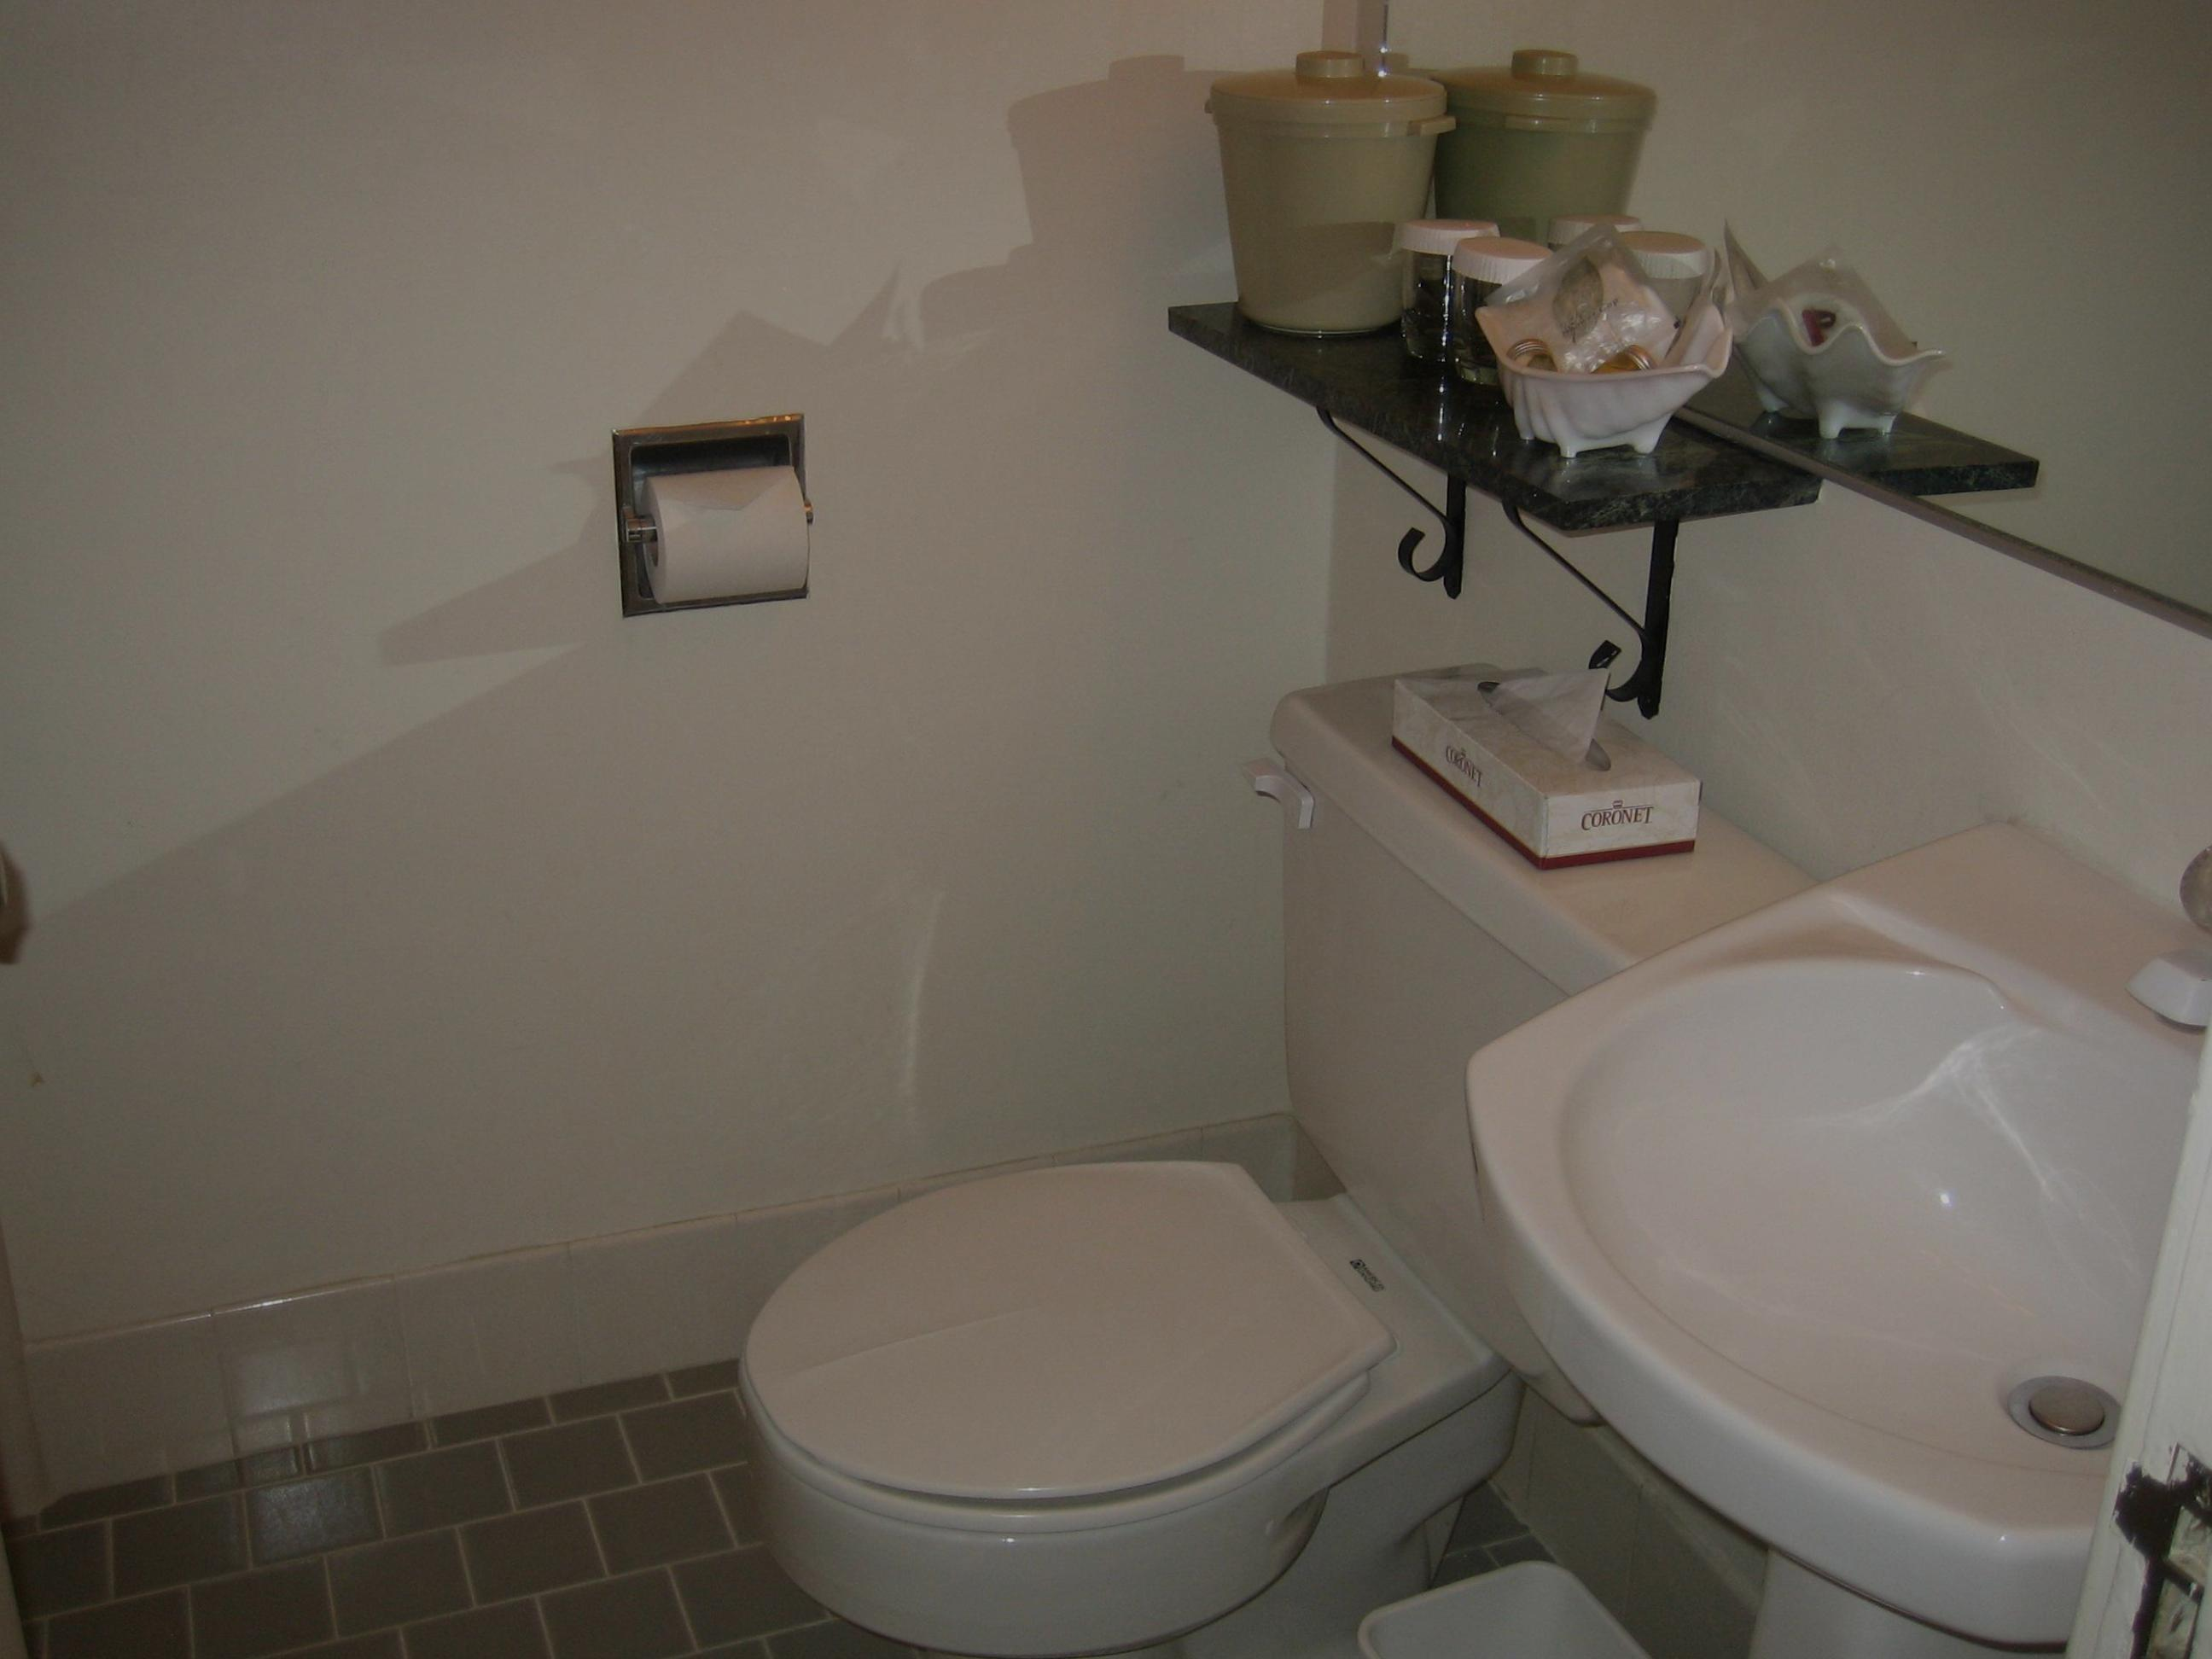Lavamanos: (1454, 798, 2191, 1652)
Sanitario: (658, 634, 1669, 1659)
